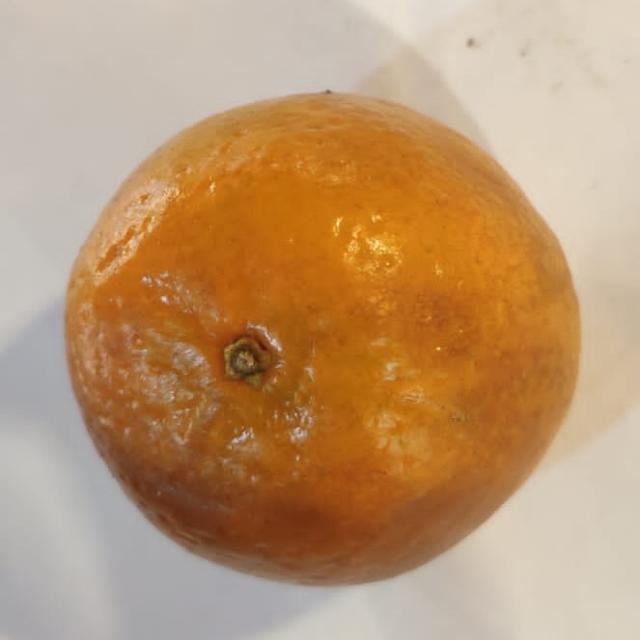orange: (66, 94, 579, 583)
